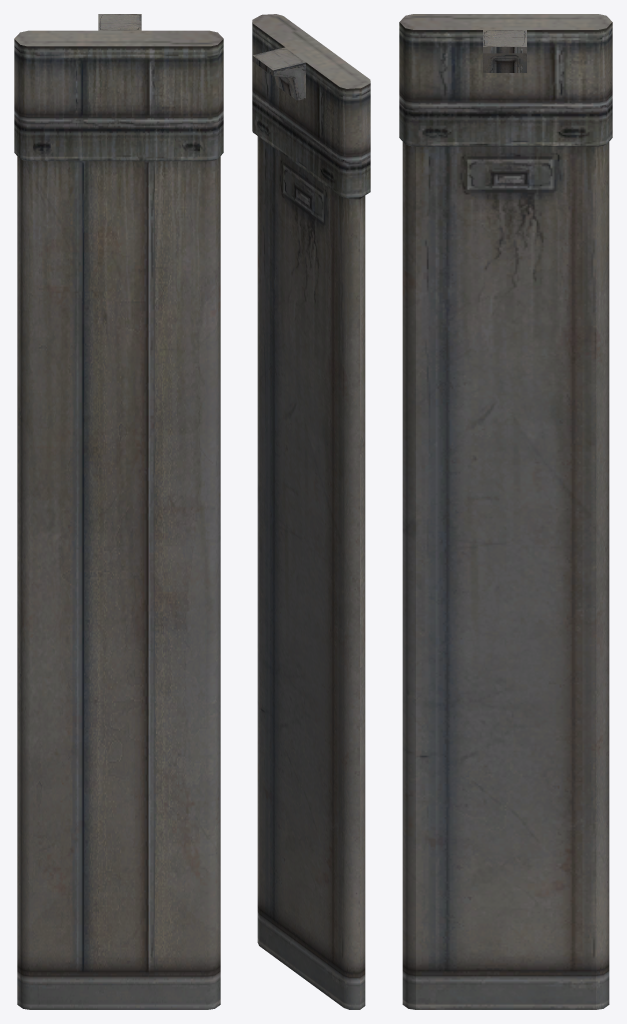
Rendered from toilet_stall_welder.DAE.
The picture shows the model from 3 angles, left to right: view 1: azimuth 90°, elevation 25°; view 2: azimuth 210°, elevation 25°; view 3: azimuth 270°, elevation 25°; orthographic projection. The views are drawn at different scales.
Parts seen in each view (by area): view 1: Mesh_Welder; view 2: Mesh_Welder; view 3: Mesh_Welder.
Boxes of the visible parts, x1=… form: Mesh_Welder: x1=14, y1=14, x2=223, y2=1009; Mesh_Welder: x1=252, y1=14, x2=370, y2=1009; Mesh_Welder: x1=399, y1=14, x2=612, y2=1009.
Bounding box in the file's own units: 0.2725 × 3.78 × 0.743.
